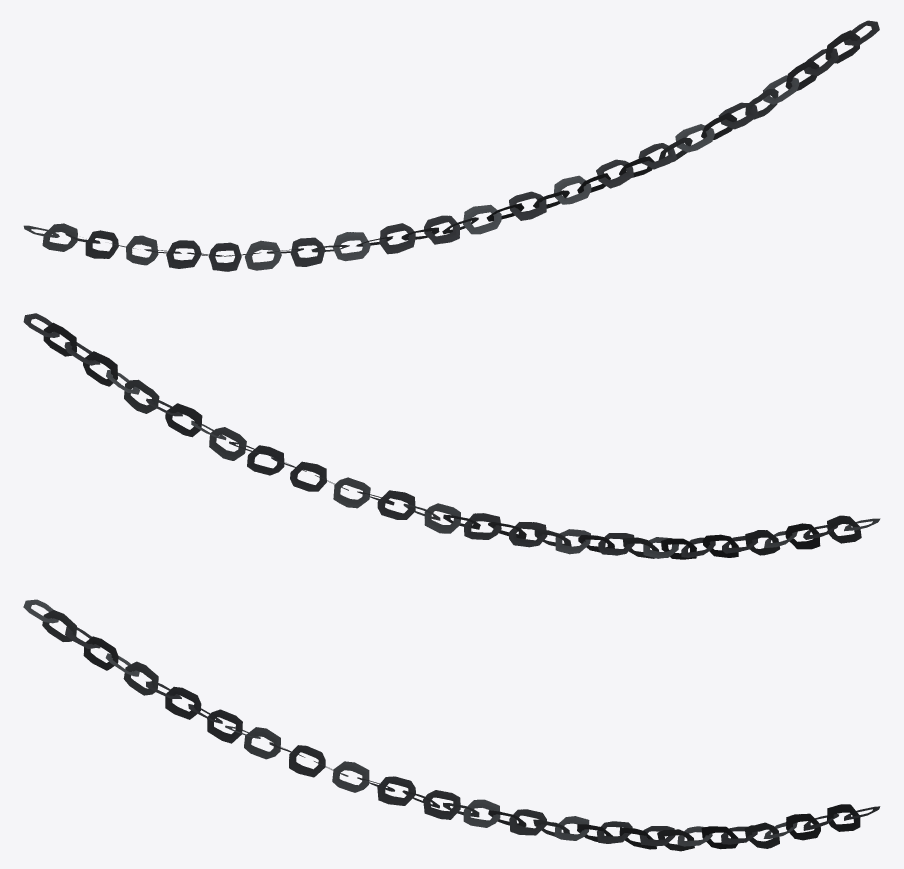
The model's file is SM_Prop_Chain_02b.fbx.
The picture shows the model from 3 angles, top to bottom: view 1: azimuth 30°, elevation 25°; view 2: azimuth 150°, elevation 25°; view 3: azimuth 330°, elevation 25°; orthographic projection.
Visible parts, largest first — view 1: SM_Prop_Chain_02b; view 2: SM_Prop_Chain_02b; view 3: SM_Prop_Chain_02b.
Boxes of the visible parts, x1,y1,x2,y2 form: SM_Prop_Chain_02b: (23, 20, 879, 271); SM_Prop_Chain_02b: (23, 313, 880, 559); SM_Prop_Chain_02b: (23, 599, 880, 851).
Bounding box in the file's own units: 262 × 35.92 × 10.44.
